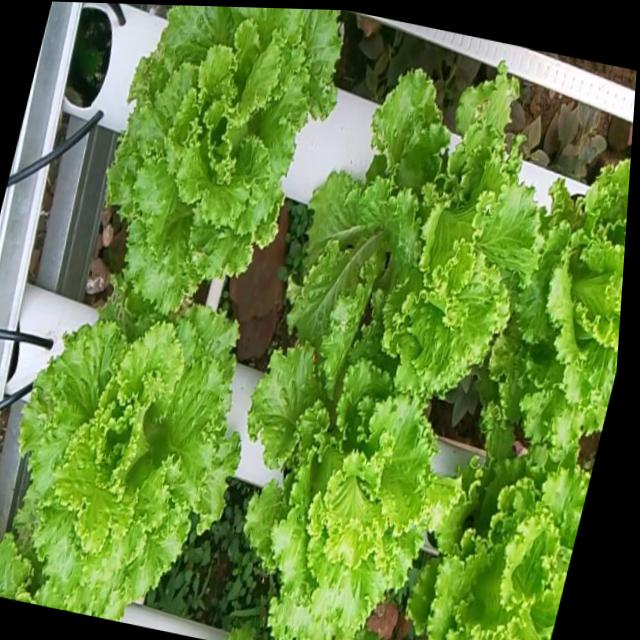Mature: (285, 34, 533, 409), (0, 295, 236, 621), (102, 5, 339, 321), (241, 349, 455, 640), (486, 167, 630, 454), (405, 436, 589, 640)
